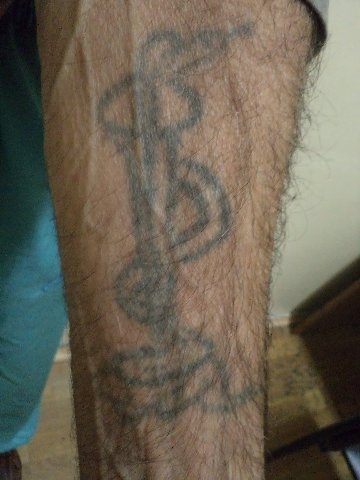tatu7_zmeya: (90, 11, 260, 421)
